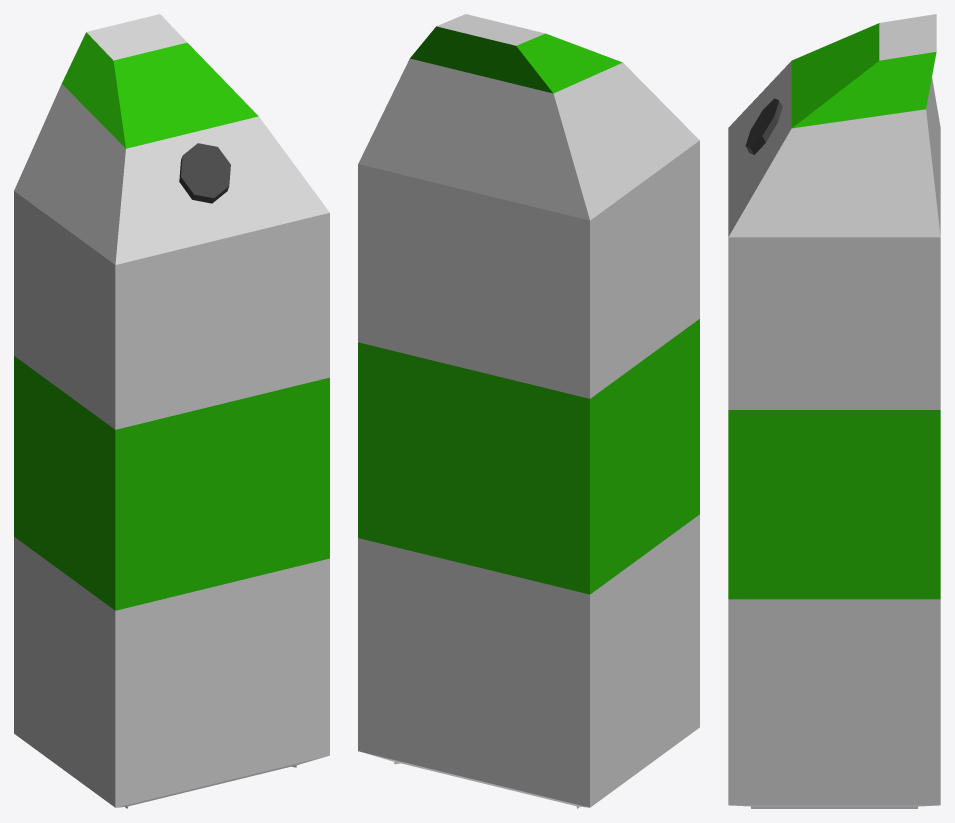
Rendered from BotellaLeche2.glb.
3 views of the same model, side by side, from view 1: azimuth 30°, elevation 25°; view 2: azimuth 150°, elevation 25°; view 3: azimuth 270°, elevation 25° (orthographic). The views are drawn at different scales.
Visible parts, largest first — view 1: leche 2; view 2: leche 2; view 3: leche 2.
Part boxes in pixels (box(x1,y1,x2,y2)): leche 2: box(14, 14, 329, 808); leche 2: box(358, 14, 699, 808); leche 2: box(728, 14, 940, 808).
Size of the model in its own units: 0.4757 by 1.48 by 0.3896.
